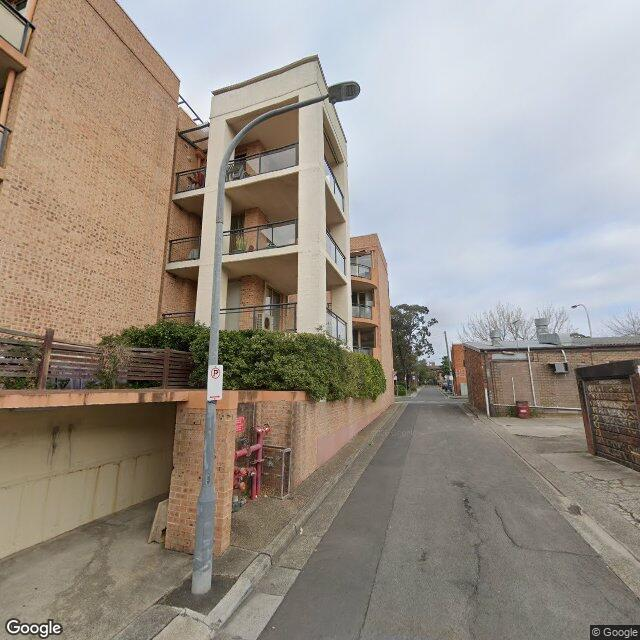steel-pole: (191, 172, 226, 595), (585, 307, 592, 337)
streetlight: (220, 80, 362, 172), (572, 304, 584, 309)
timber-pole: (445, 331, 453, 396)
